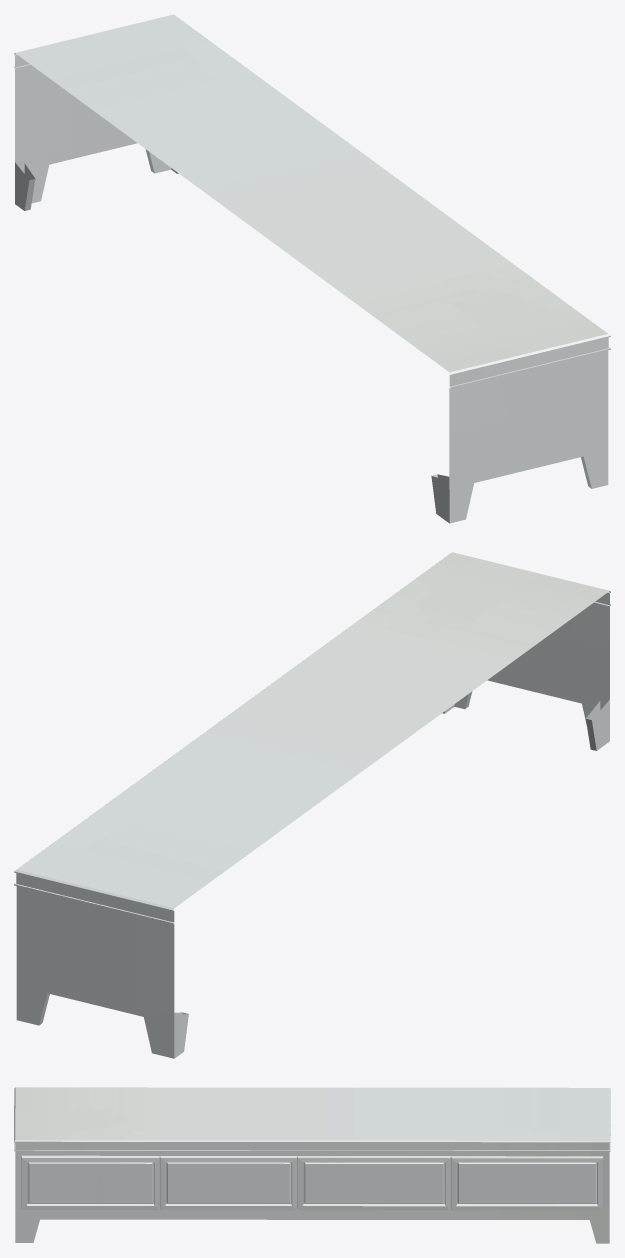
File: dianshigui.fbx
3 renders of one model, top to bottom at view 1: azimuth 30°, elevation 25°; view 2: azimuth 150°, elevation 25°; view 3: azimuth 270°, elevation 25°, orthographic. The views are drawn at different scales.
Parts seen in each view (by area): view 1: dianshigui; view 2: dianshigui; view 3: dianshigui.
Part boxes in pixels (left/top/right/bottom): dianshigui: left=14, top=14, right=610, bottom=523; dianshigui: left=14, top=552, right=610, bottom=1058; dianshigui: left=14, top=1087, right=610, bottom=1243.
Bounding box in the file's own units: 49.3 × 43.27 × 227.
